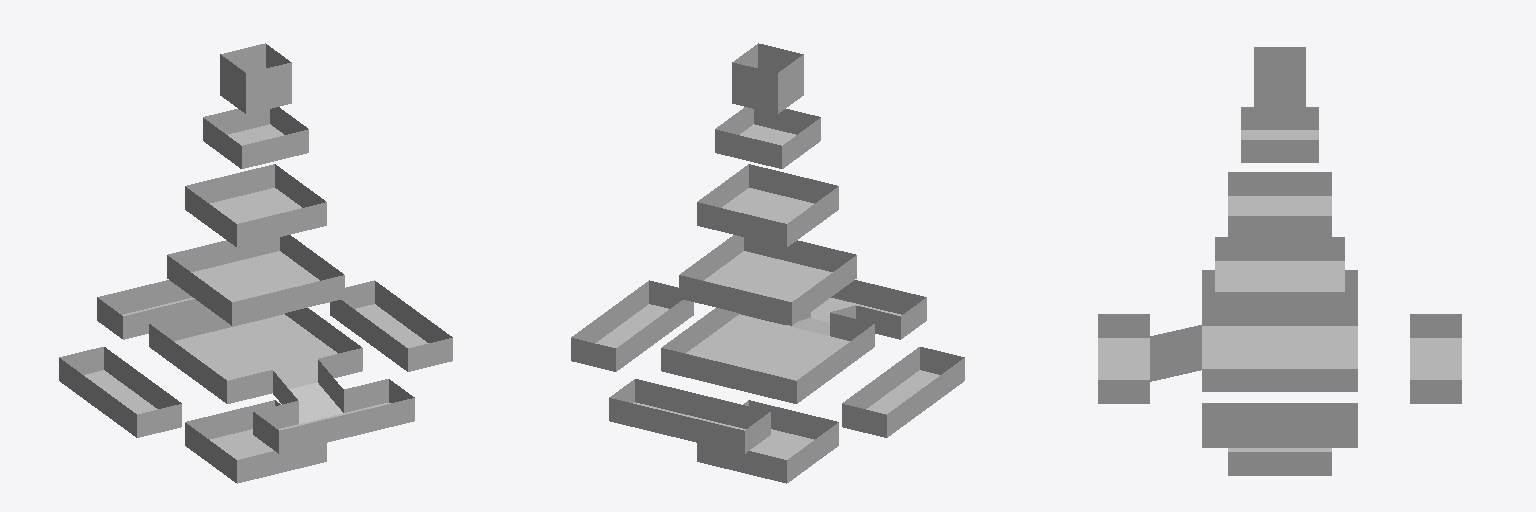
Rendered from basic_baking-02-collision_mesh.obj.
3 renders of one model, left to right at view 1: azimuth 30°, elevation 25°; view 2: azimuth 150°, elevation 25°; view 3: azimuth 270°, elevation 25°, orthographic.
Visible parts, largest first — view 1: Plane.004, Plane.001, Plane.003, Plane.009_Plane.010, Plane.008_Plane.009, Plane.010_Plane.011, Plane.005, Plane.002, Plane.006_Plane.007, Plane.007_Plane.008; view 2: Plane.004, Plane.001, Plane.003, Plane.007_Plane.008, Plane.009_Plane.010, Plane.010_Plane.011, Plane.005, Plane.002, Plane.006_Plane.007, Plane.008_Plane.009; view 3: Plane.004, Plane.001, Plane.003, Plane.010_Plane.011, Plane.007_Plane.008, Plane.008_Plane.009, Plane.002, Plane.006_Plane.007, Plane.005, Plane.009_Plane.010.
Part boxes in pixels (x1,y1,x2,y2): Plane.004: (149,308,362,423); Plane.001: (167,235,344,325); Plane.003: (185,164,326,247); Plane.009_Plane.010: (59,347,181,437); Plane.008_Plane.009: (253,379,414,453); Plane.010_Plane.011: (330,280,452,371); Plane.005: (185,400,326,483); Plane.002: (203,107,308,168); Plane.006_Plane.007: (220,43,291,114); Plane.007_Plane.008: (97,280,207,339); Plane.004: (661,305,874,403); Plane.001: (679,235,856,325); Plane.003: (697,164,838,247); Plane.007_Plane.008: (609,379,770,453); Plane.009_Plane.010: (842,347,964,437); Plane.010_Plane.011: (571,280,693,371); Plane.005: (697,400,838,483); Plane.002: (715,107,820,168); Plane.006_Plane.007: (732,43,803,114); Plane.008_Plane.009: (811,280,926,339); Plane.004: (1150,303,1357,391); Plane.001: (1215,237,1344,315); Plane.003: (1228,172,1331,239); Plane.010_Plane.011: (1202,403,1357,447); Plane.007_Plane.008: (1410,314,1461,403); Plane.008_Plane.009: (1098,314,1149,403); Plane.002: (1241,107,1318,162); Plane.006_Plane.007: (1254,47,1305,110); Plane.005: (1228,448,1331,475); Plane.009_Plane.010: (1202,270,1357,302).
Size of the model in its own units: 56 by 67 by 56.